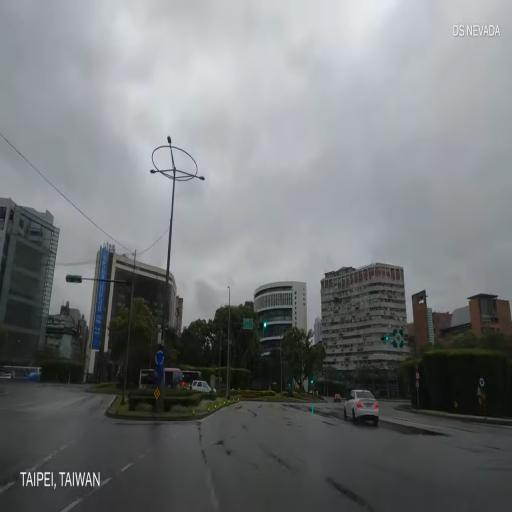Car: (140, 366, 202, 399), (344, 389, 378, 426), (4, 364, 42, 382), (192, 379, 216, 398)
